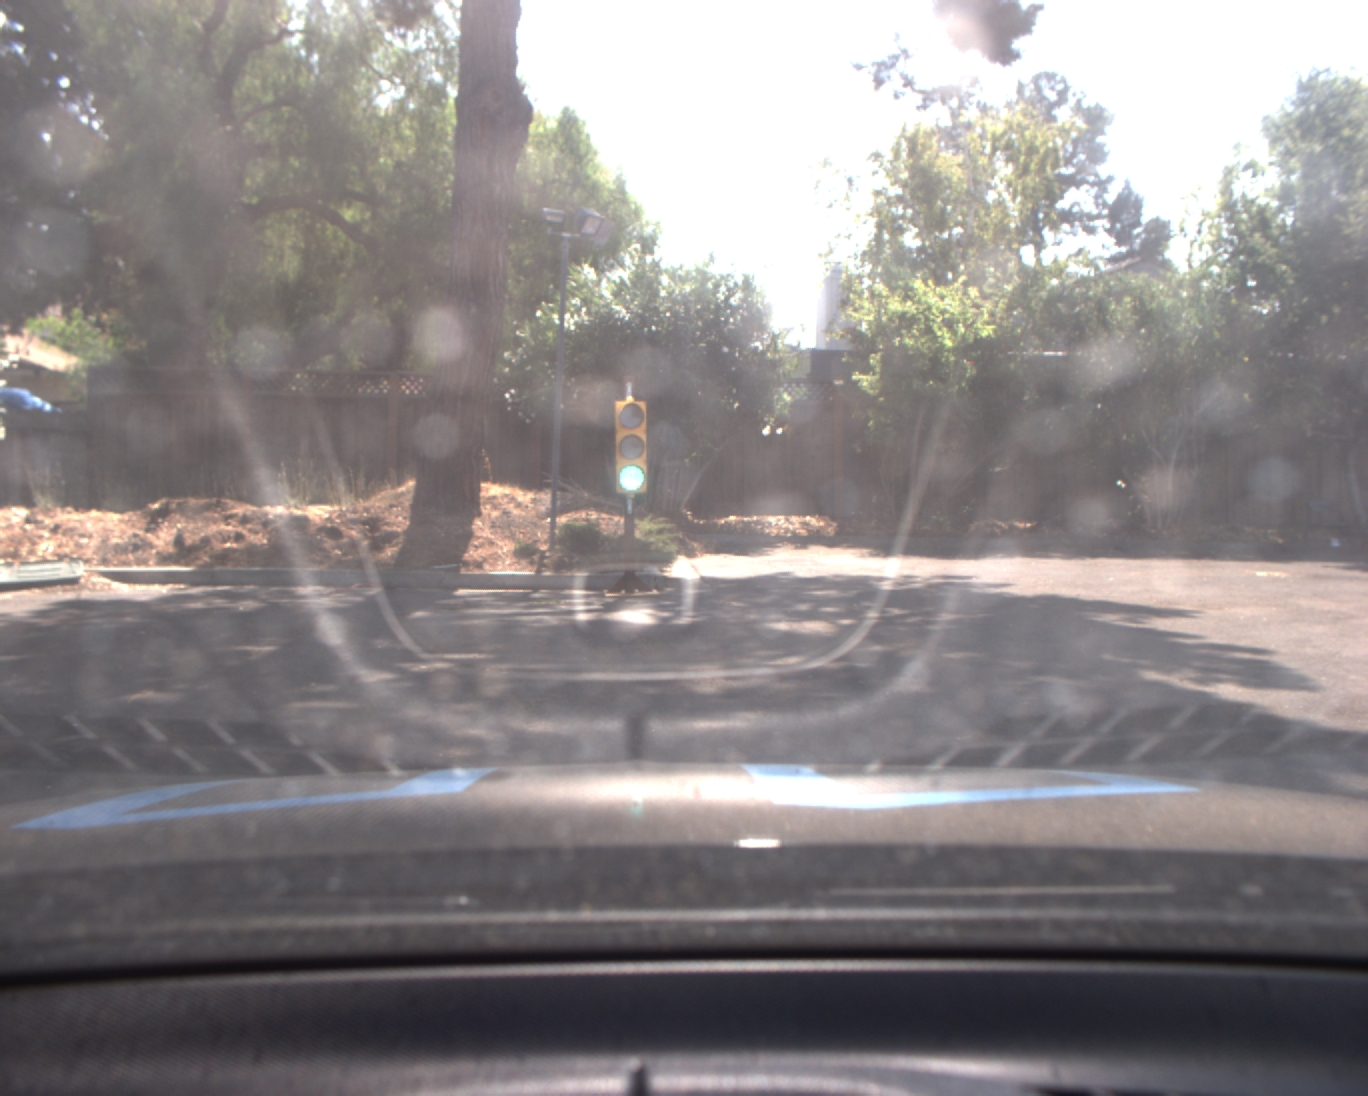green: (612, 402, 651, 494)
